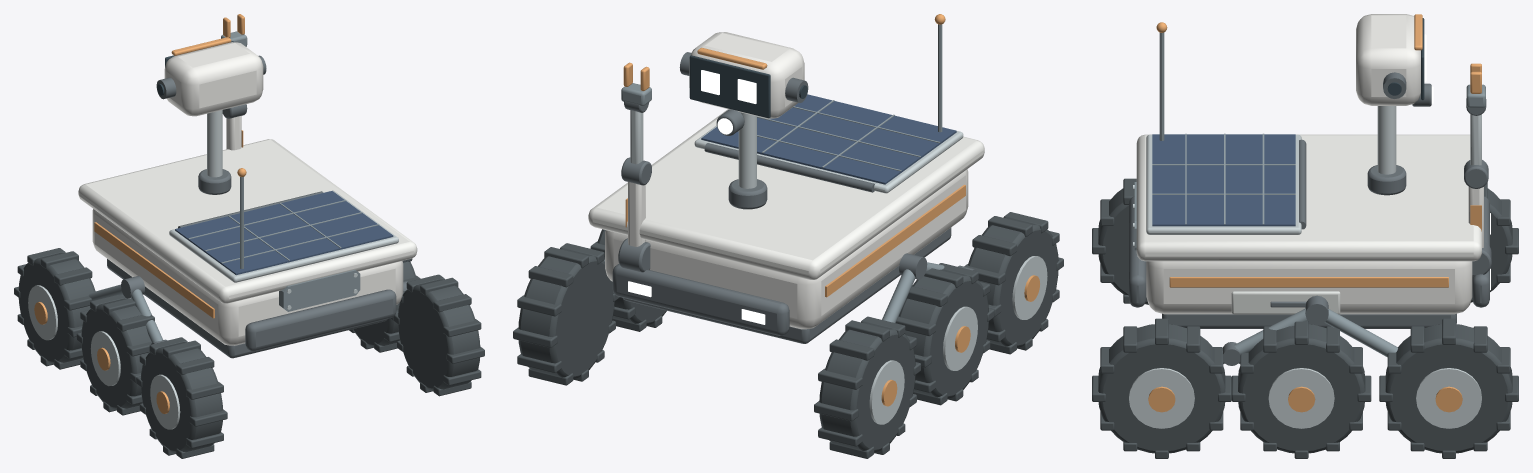
File: GAR_Y_with_mounts.glb
The picture shows the model from 3 angles, left to right: view 1: azimuth 30°, elevation 25°; view 2: azimuth 150°, elevation 25°; view 3: azimuth 270°, elevation 25°; orthographic projection. The views are drawn at different scales.
Visible parts, largest first — view 1: deck_white_painted, solar_cells_solar_cell, wheel_5_black_rubber, wheel_6_black_rubber, chassis_rover_white, wheel_1_black_rubber, wheel_3_black_rubber, head_rover_white, bumper_rear_graphite, rear_hitch_backing_dark_alloy, solar_frame_alloy, belly_graphite (+7 smaller); view 2: deck_white_painted, chassis_rover_white, wheel_1_black_rubber, wheel_2_black_rubber, solar_cells_solar_cell, wheel_3_black_rubber, wheel_5_black_rubber, bumper_front_graphite, head_rover_white, visor_dark_glass, belly_graphite, trim_orange (+12 smaller); view 3: deck_white_painted, wheel_6_black_rubber, wheel_2_black_rubber, wheel_4_black_rubber, solar_cells_solar_cell, chassis_rover_white, head_rover_white, wheel_5_black_rubber, trim_orange, belly_graphite, leg_r_dark_alloy, solar_frame_alloy (+12 smaller).
Part boxes in pixels (bbox=[...]): deck_white_painted: bbox=[78, 139, 417, 303]; solar_cells_solar_cell: bbox=[175, 191, 393, 275]; wheel_5_black_rubber: bbox=[136, 337, 227, 458]; wheel_6_black_rubber: bbox=[393, 274, 484, 396]; chassis_rover_white: bbox=[92, 209, 403, 345]; wheel_1_black_rubber: bbox=[14, 248, 95, 369]; wheel_3_black_rubber: bbox=[76, 295, 154, 415]; head_rover_white: bbox=[164, 42, 263, 116]; bumper_rear_graphite: bbox=[245, 289, 396, 351]; rear_hitch_backing_dark_alloy: bbox=[279, 269, 360, 311]; solar_frame_alloy: bbox=[169, 190, 398, 282]; belly_graphite: bbox=[107, 259, 387, 358]; deck_white_painted: bbox=[588, 109, 984, 279]; chassis_rover_white: bbox=[605, 169, 968, 329]; wheel_1_black_rubber: bbox=[814, 316, 920, 458]; wheel_2_black_rubber: bbox=[513, 243, 619, 385]; solar_cells_solar_cell: bbox=[701, 94, 956, 184]; wheel_3_black_rubber: bbox=[896, 263, 994, 405]; wheel_5_black_rubber: bbox=[964, 212, 1063, 354]; bumper_front_graphite: bbox=[612, 264, 789, 335]; head_rover_white: bbox=[689, 32, 804, 118]; visor_dark_glass: bbox=[689, 55, 770, 118]; belly_graphite: bbox=[622, 227, 951, 343]; trim_orange: bbox=[825, 184, 965, 297]; deck_white_painted: bbox=[1136, 134, 1481, 261]; wheel_6_black_rubber: bbox=[1092, 318, 1231, 458]; wheel_2_black_rubber: bbox=[1379, 318, 1518, 458]; wheel_4_black_rubber: bbox=[1231, 321, 1371, 458]; solar_cells_solar_cell: bbox=[1152, 134, 1295, 226]; chassis_rover_white: bbox=[1146, 261, 1472, 314]; head_rover_white: bbox=[1356, 14, 1420, 105]; wheel_5_black_rubber: bbox=[1092, 178, 1148, 304]; trim_orange: bbox=[1169, 277, 1448, 287]; belly_graphite: bbox=[1162, 313, 1456, 328]; leg_r_dark_alloy: bbox=[1222, 295, 1397, 365]; solar_frame_alloy: bbox=[1146, 134, 1301, 234].
Bounding box in the file's own units: 1.04 × 0.984 × 1.1.
